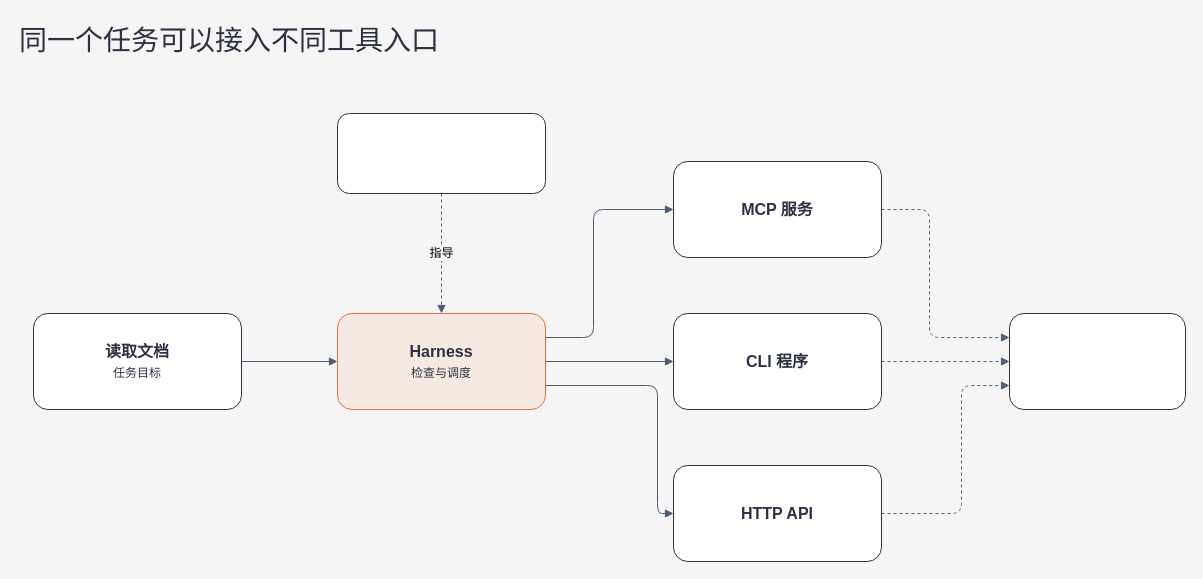
This 1203x579 diagram has some shape labels left out. Here are the shapes that lost their labels. From the top down, the centre of each, then its label:
the point at 441,153: Skill 指令与资源 方法与约束
the point at 1097,361: 文档系统 真实结果
